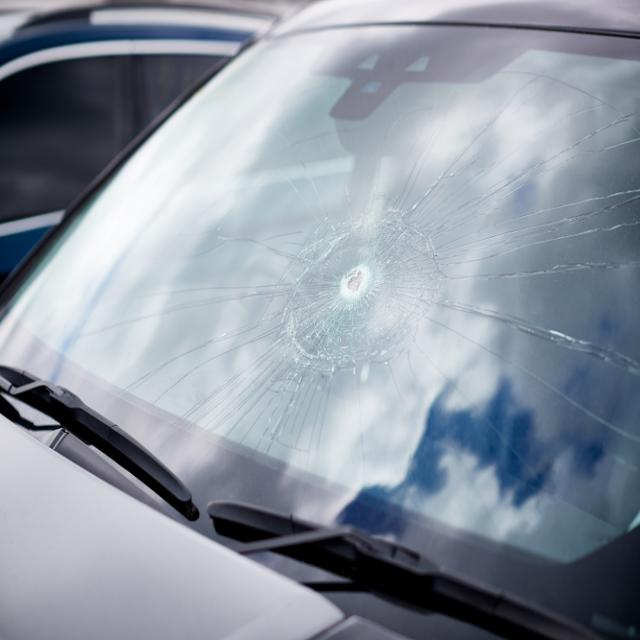Fissure: (166, 61, 640, 522), (35, 296, 176, 431), (339, 257, 367, 297)
